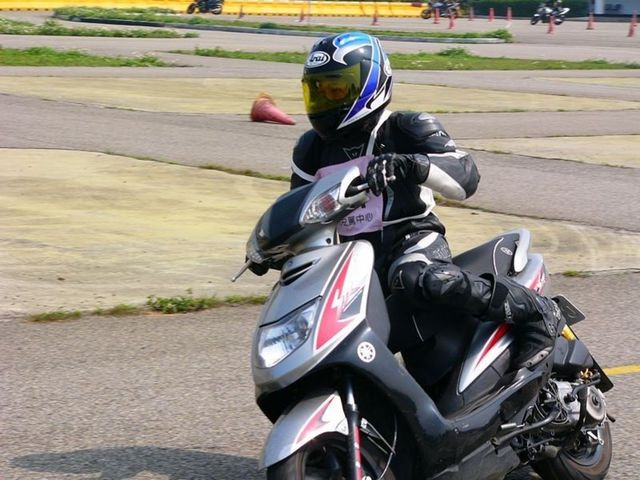helmet: (297, 38, 402, 127)
